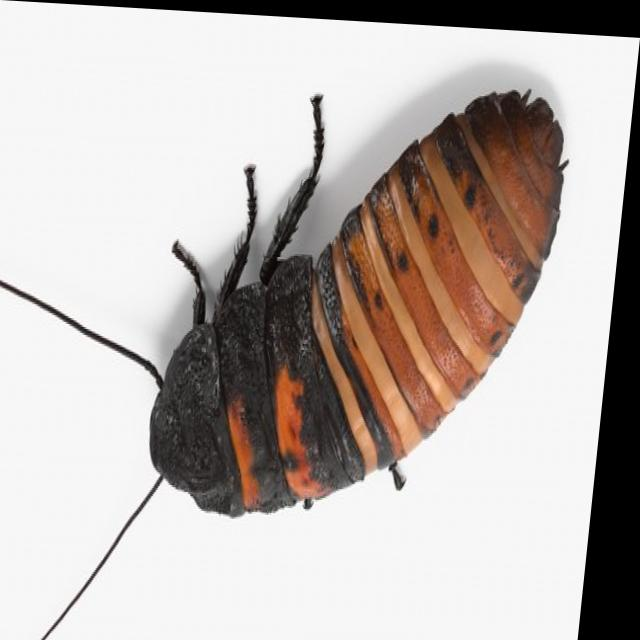Cockroach: (0, 42, 592, 640)
